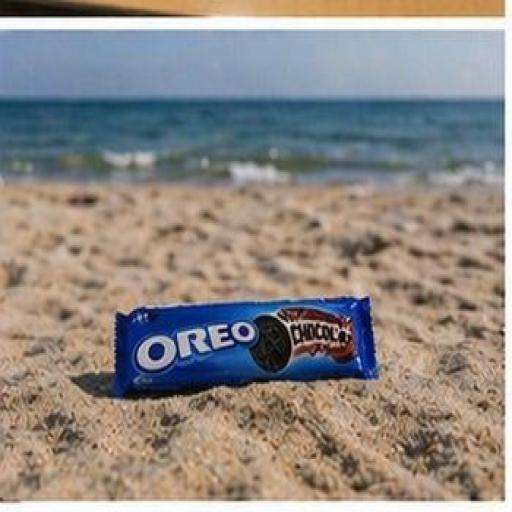oreo: (86, 251, 403, 430)
